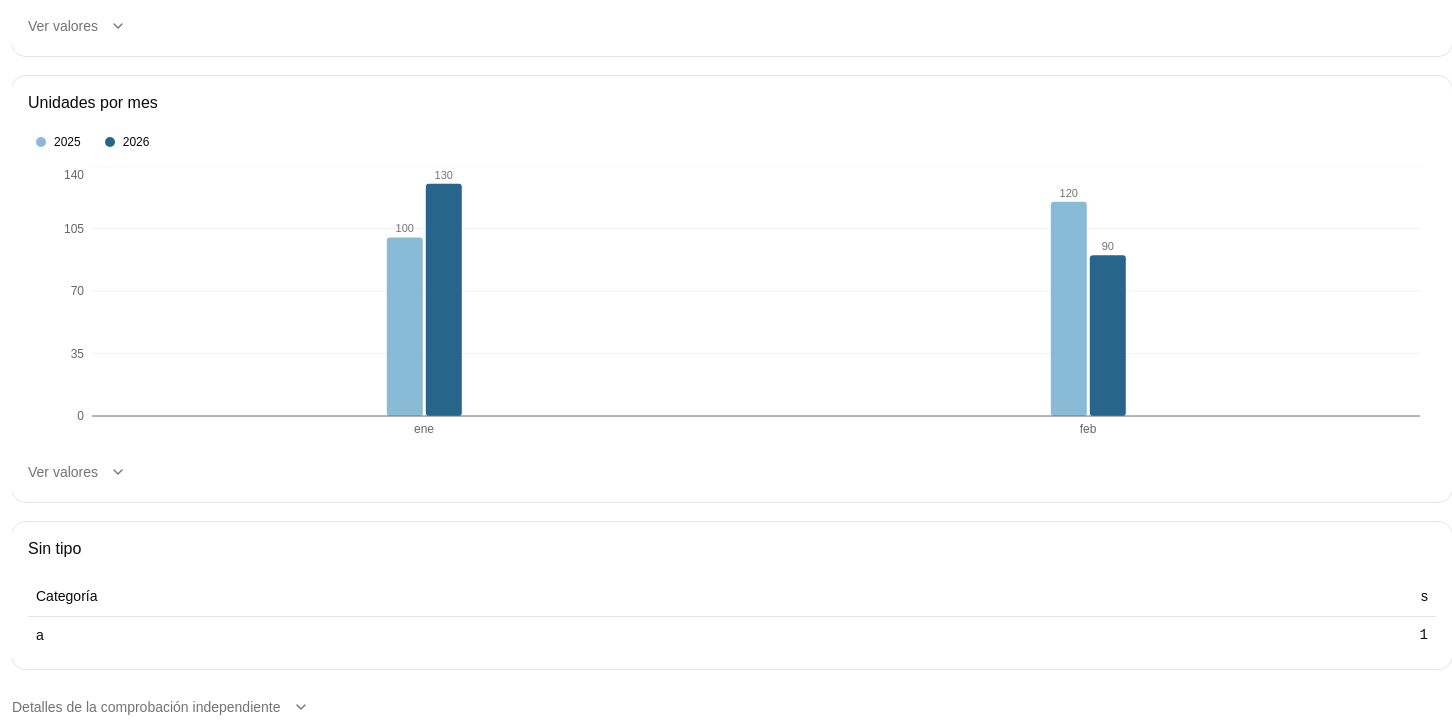
Test: summarizes the check in one plain sentence instead of repeating technical notes
(page scrolled)
Expected: the text "Se examinaron" is not shown
Click the button "Detalles de la comprobación independiente": (160, 707) [12,693,308,720]
(page scrolled)
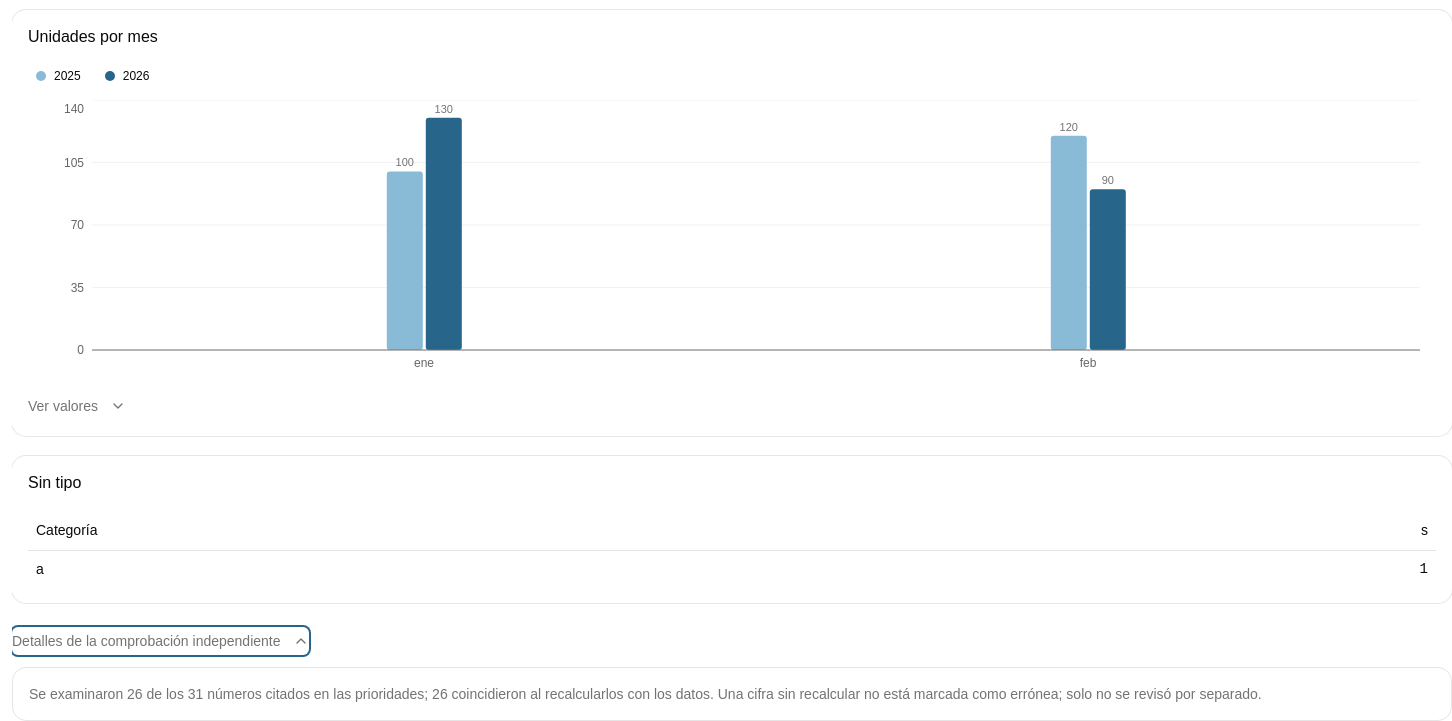
Expected: the text "Se examinaron 26 de los 31 números citados" is shown, [29,686,714,702]
Expected: the text "no está marcada como errónea" is shown, [718,686,1262,702]
